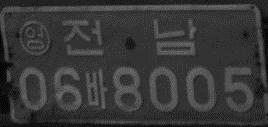0: (148, 65, 180, 114), (18, 65, 49, 113), (184, 65, 215, 112)
5: (223, 65, 255, 113)
6: (52, 65, 82, 112)
8: (111, 65, 143, 113)
바: (84, 68, 109, 110)
영: (17, 19, 51, 56)
전남_D: (61, 16, 197, 57)
